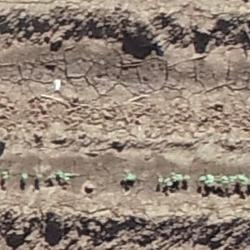cotton: (237, 175, 248, 184), (202, 175, 213, 183), (59, 172, 67, 180), (222, 175, 229, 184), (1, 171, 8, 179), (165, 178, 172, 185), (127, 174, 135, 180), (21, 174, 27, 180), (173, 175, 179, 181), (158, 177, 162, 183), (183, 175, 190, 178)
